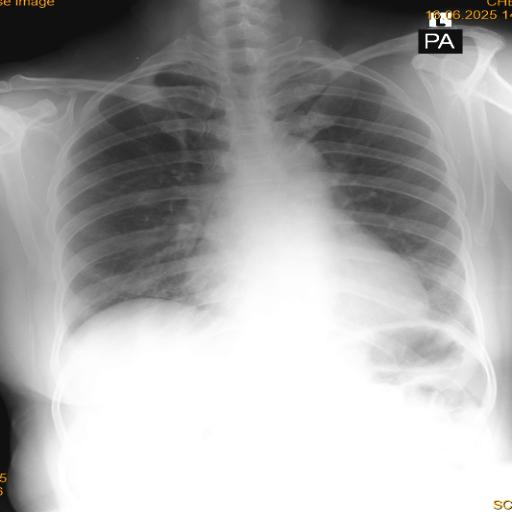kardiomegali: (28, 39, 506, 410)
